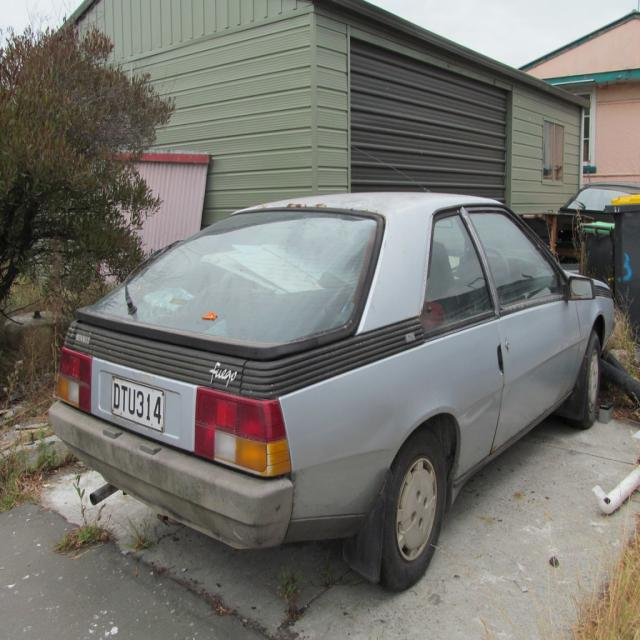car: (44, 148, 618, 597)
